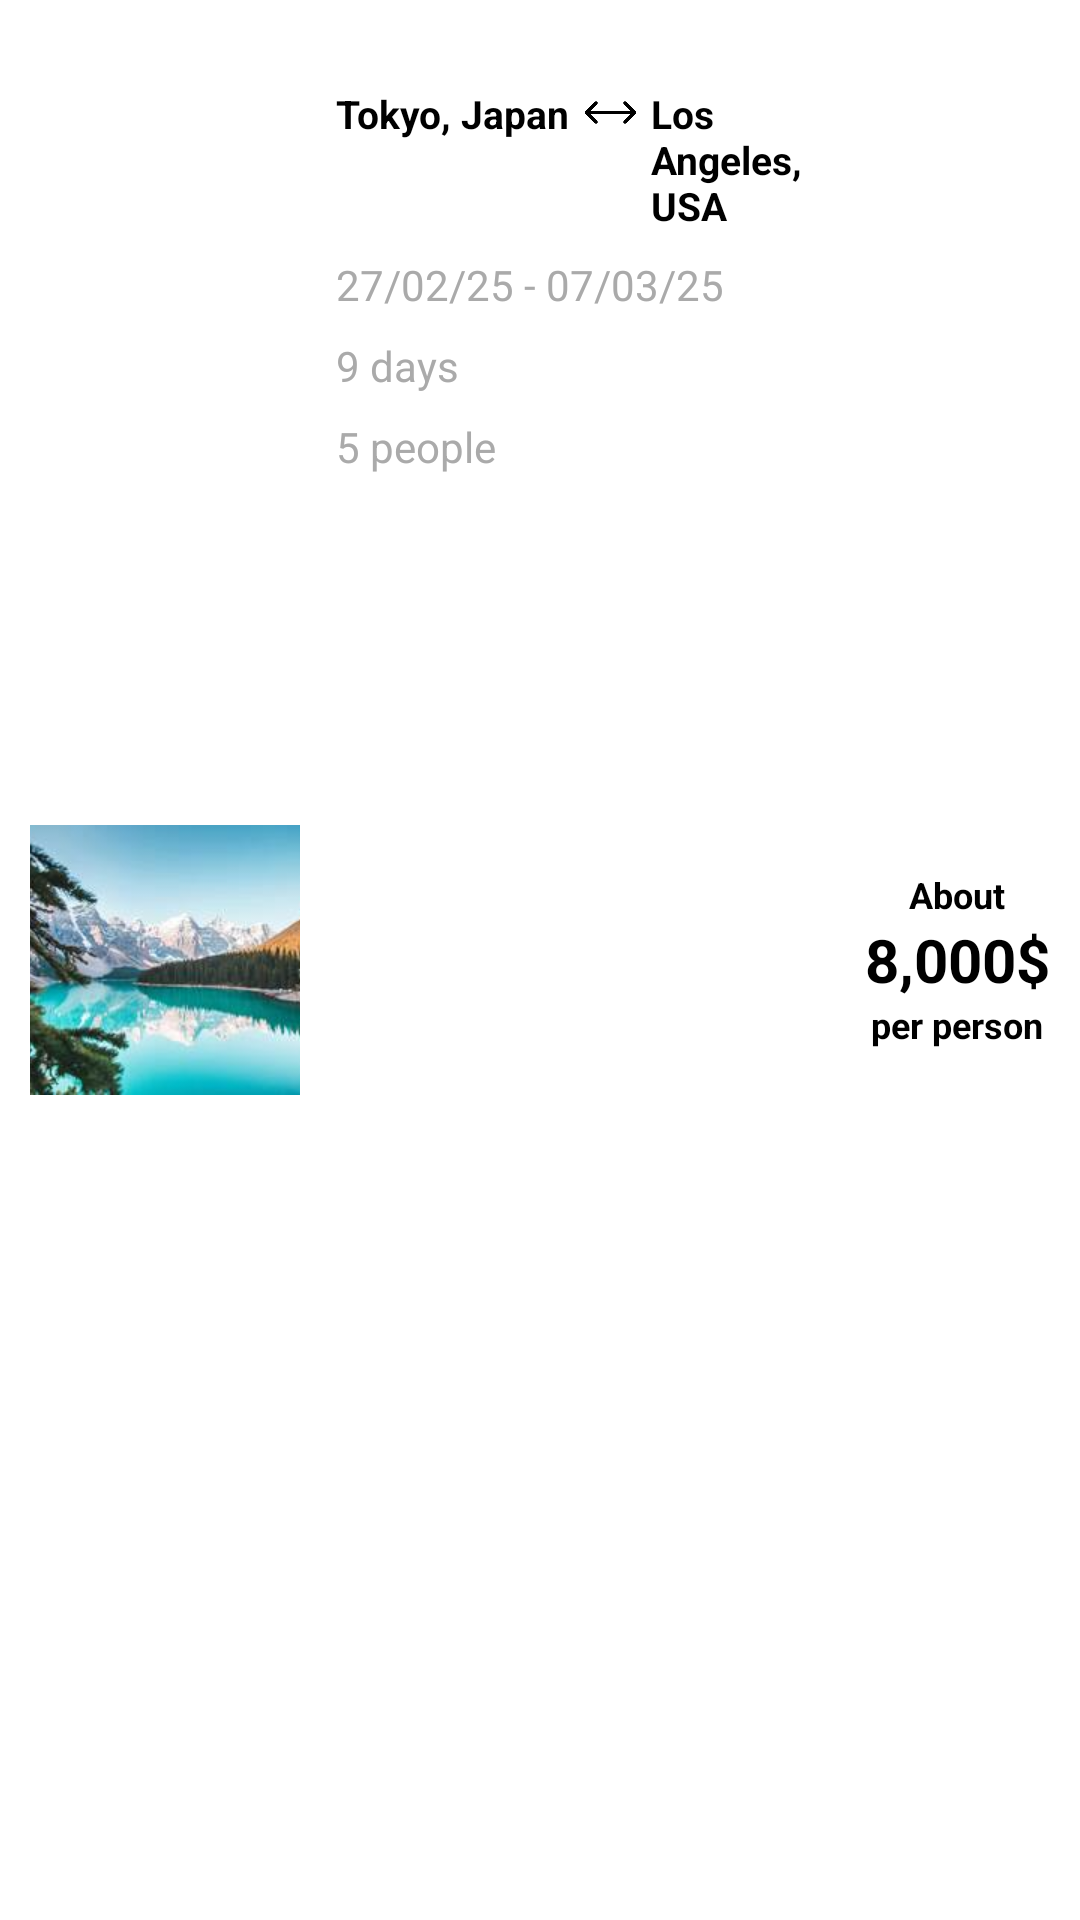

Where icons sit on this 1080×1920 app screen, as rect(x1, y1, x2, y2):
double arrow: rect(585, 101, 636, 124)
